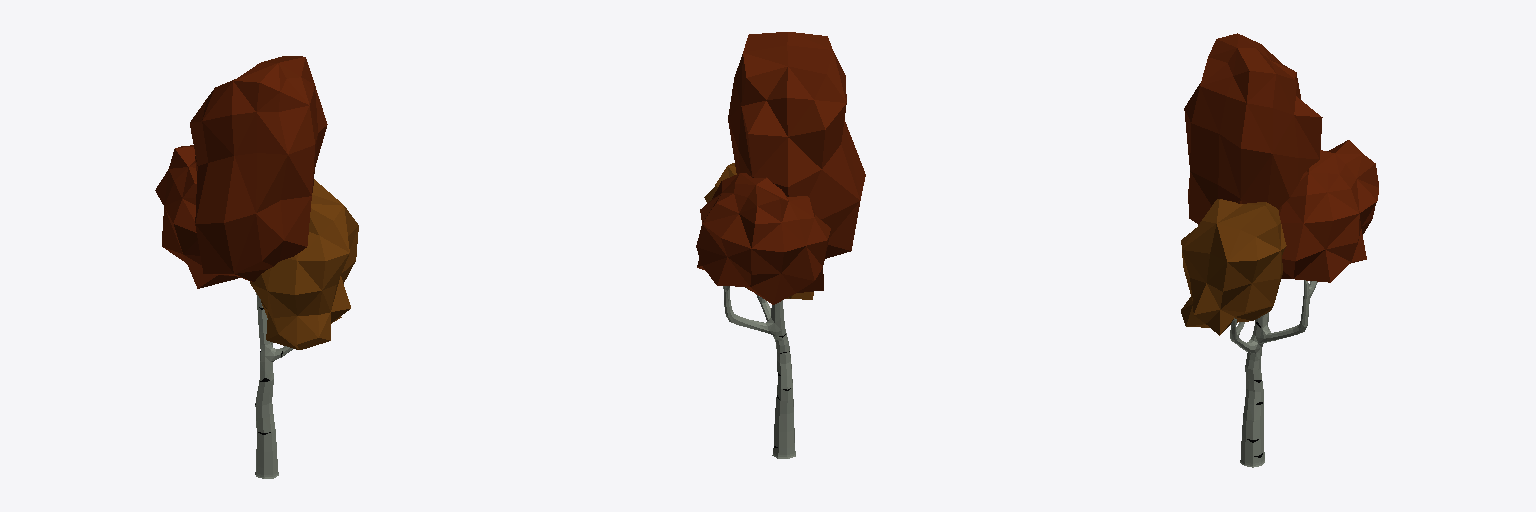
File: BirchTree_Autumn_3.obj
3 views of the same model, side by side, from view 1: azimuth 30°, elevation 25°; view 2: azimuth 150°, elevation 25°; view 3: azimuth 270°, elevation 25° (orthographic).
Parts seen in each view (by area): view 1: BirchTree_Autumn_3_Cube.082; view 2: BirchTree_Autumn_3_Cube.082; view 3: BirchTree_Autumn_3_Cube.082.
Part boxes in pixels (x1,y1,x2,y2): BirchTree_Autumn_3_Cube.082: (155, 56, 358, 478); BirchTree_Autumn_3_Cube.082: (696, 32, 865, 458); BirchTree_Autumn_3_Cube.082: (1181, 33, 1378, 467).
Bounding box in the file's own units: 1.57 × 4.09 × 1.77.